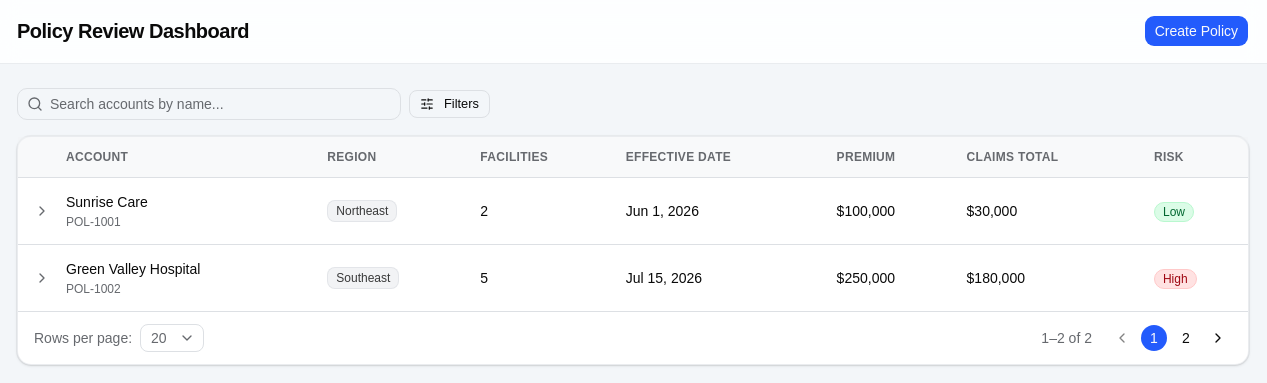
Test: DashboardPage integration › clicking Next page button loads page 2
The image size is (1267, 383).
Expected: the text "Sunrise Care" is shown, left=66, top=194, right=148, bottom=210
Click the button named "next page" at (1218,338), box left=1204, top=324, right=1232, bottom=352
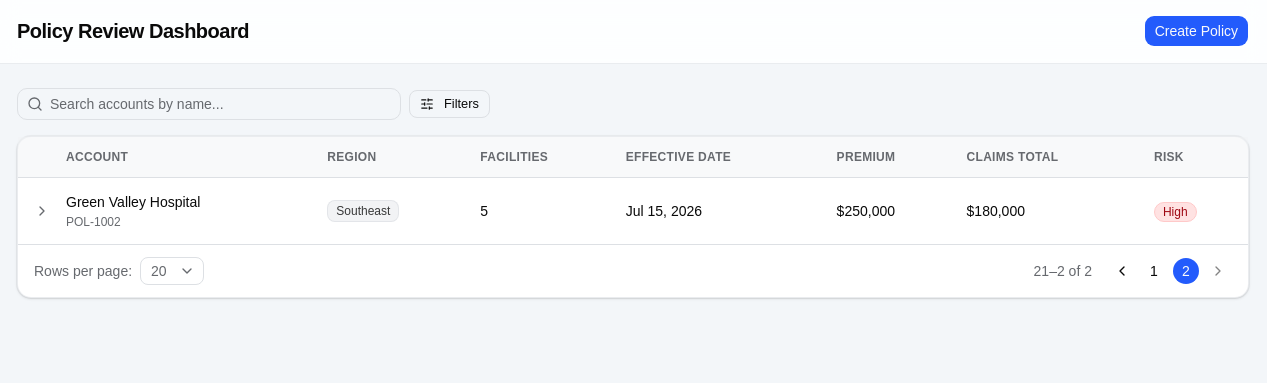
Expected: the text "Green Valley Hospital" is shown, left=66, top=194, right=200, bottom=210
Expected: the text "Sunrise Care" is gone
